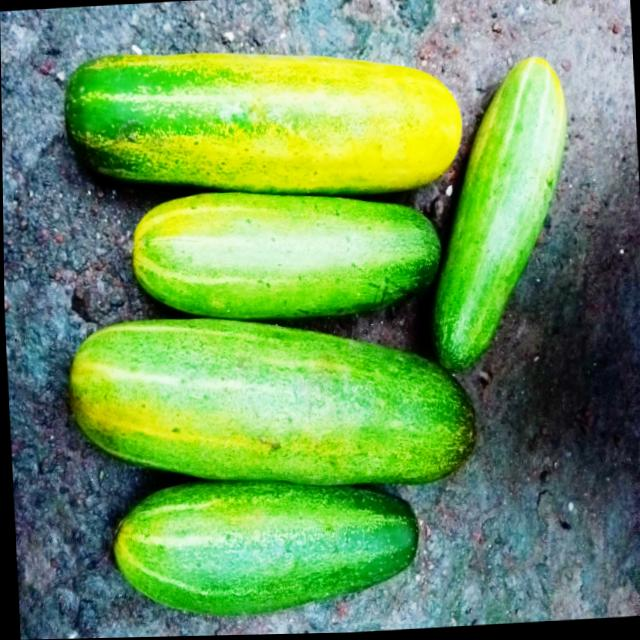Fresh-Cucumber: (62, 304, 480, 503), (58, 37, 464, 207), (419, 55, 580, 378), (108, 475, 421, 627), (129, 180, 446, 326)
